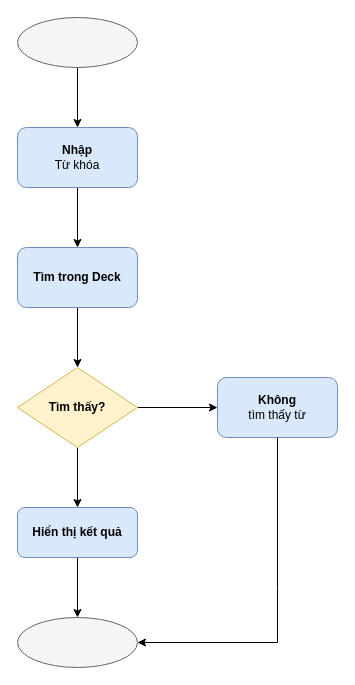
The diagram is 355 pixels wide and 685 high, and some of its shapes have lost their labels. The centre of each missing label's shape, as x and y in pixels:
"Bắt đầu" belongs at [77,42].
"Kết thúc" belongs at [77,642].
